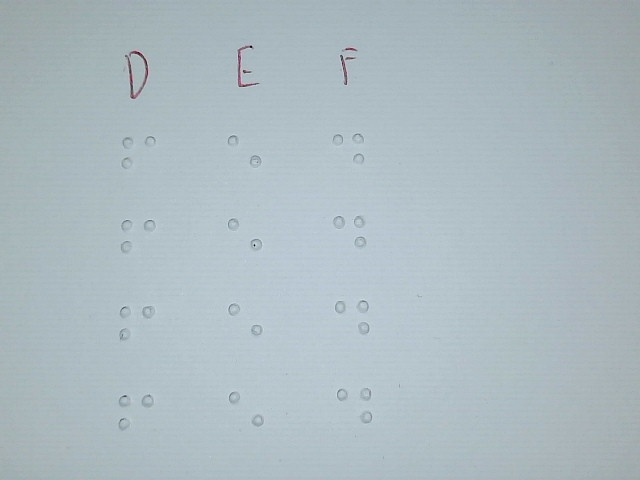D: (330, 119, 367, 189), (331, 201, 368, 271), (334, 286, 371, 356), (336, 373, 373, 443)
E: (225, 119, 264, 192), (226, 203, 265, 276), (226, 288, 265, 361), (226, 375, 265, 448)
F: (116, 379, 155, 452), (118, 291, 157, 364), (119, 205, 158, 278), (119, 120, 158, 193)
